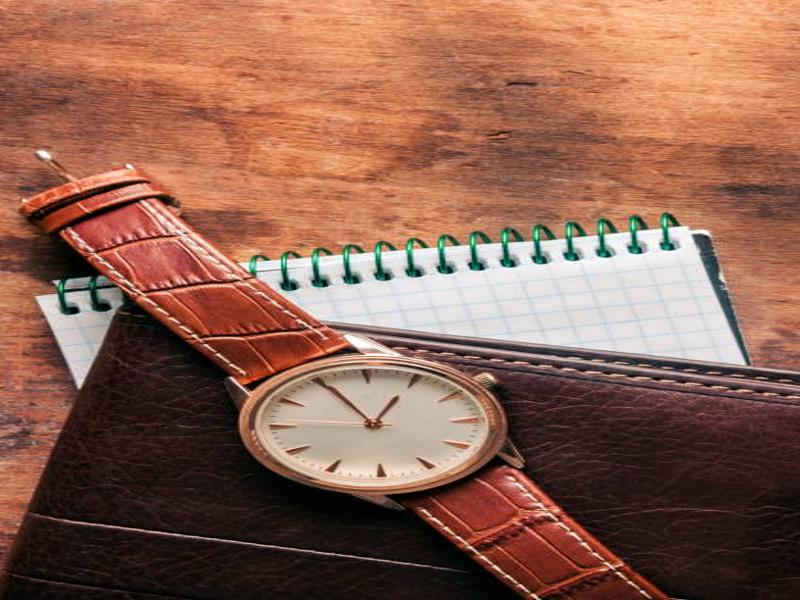watch: (18, 165, 667, 600)
